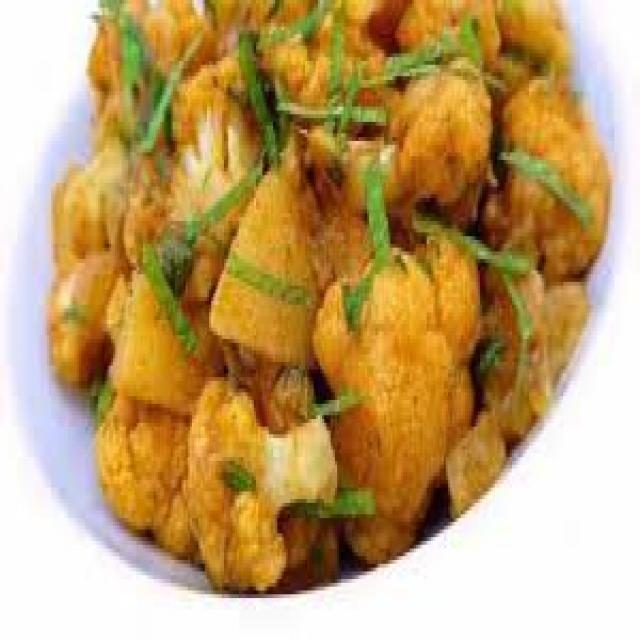Aloo Gobi: (97, 3, 464, 562)
